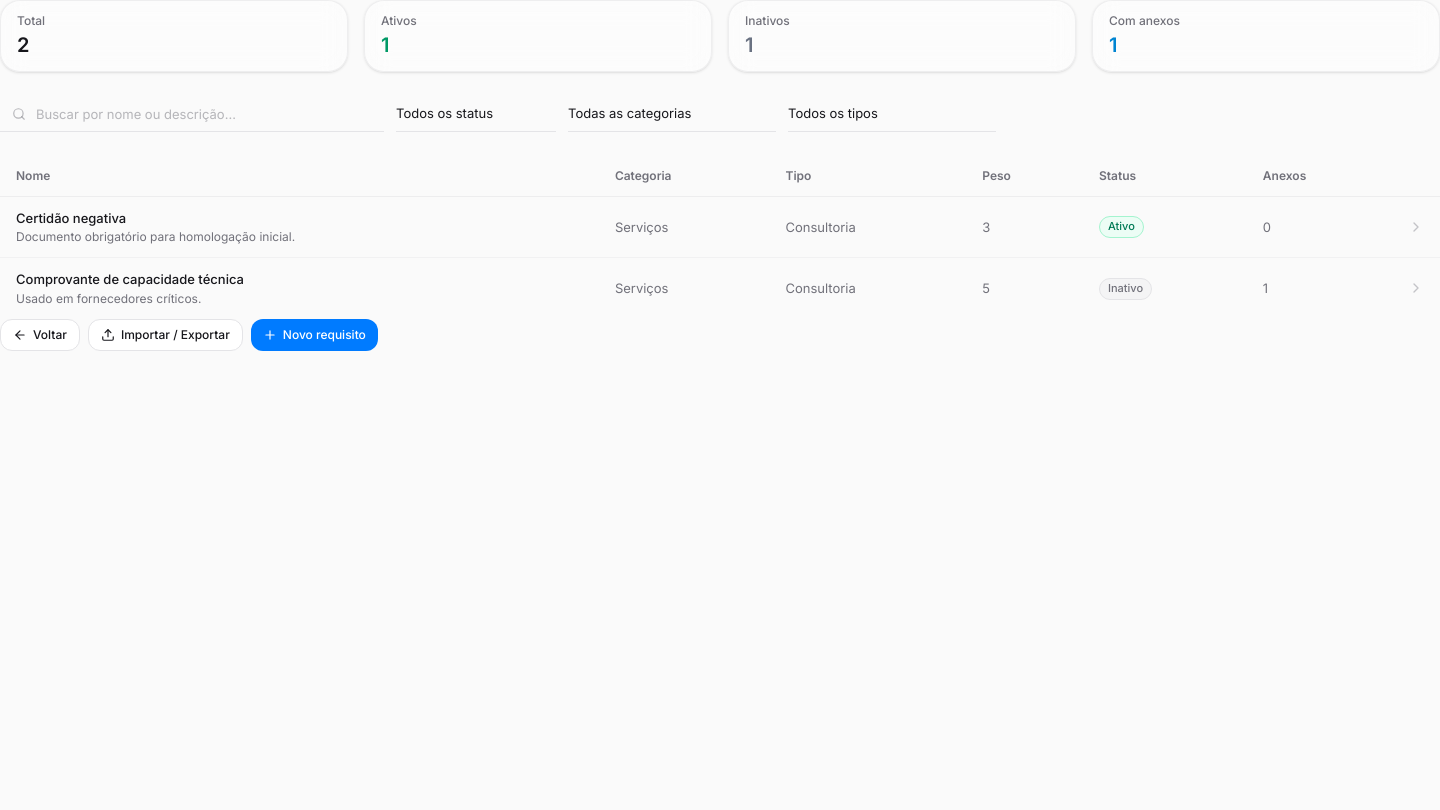
Test case: suppliers pages › renders requirements in table mode and opens the import/export modal from the header
Expected: the text "Certidão negativa" is shown, [16,210,126,226]
Click the button "Importar / Exportar": (165, 335) [88,319,243,351]
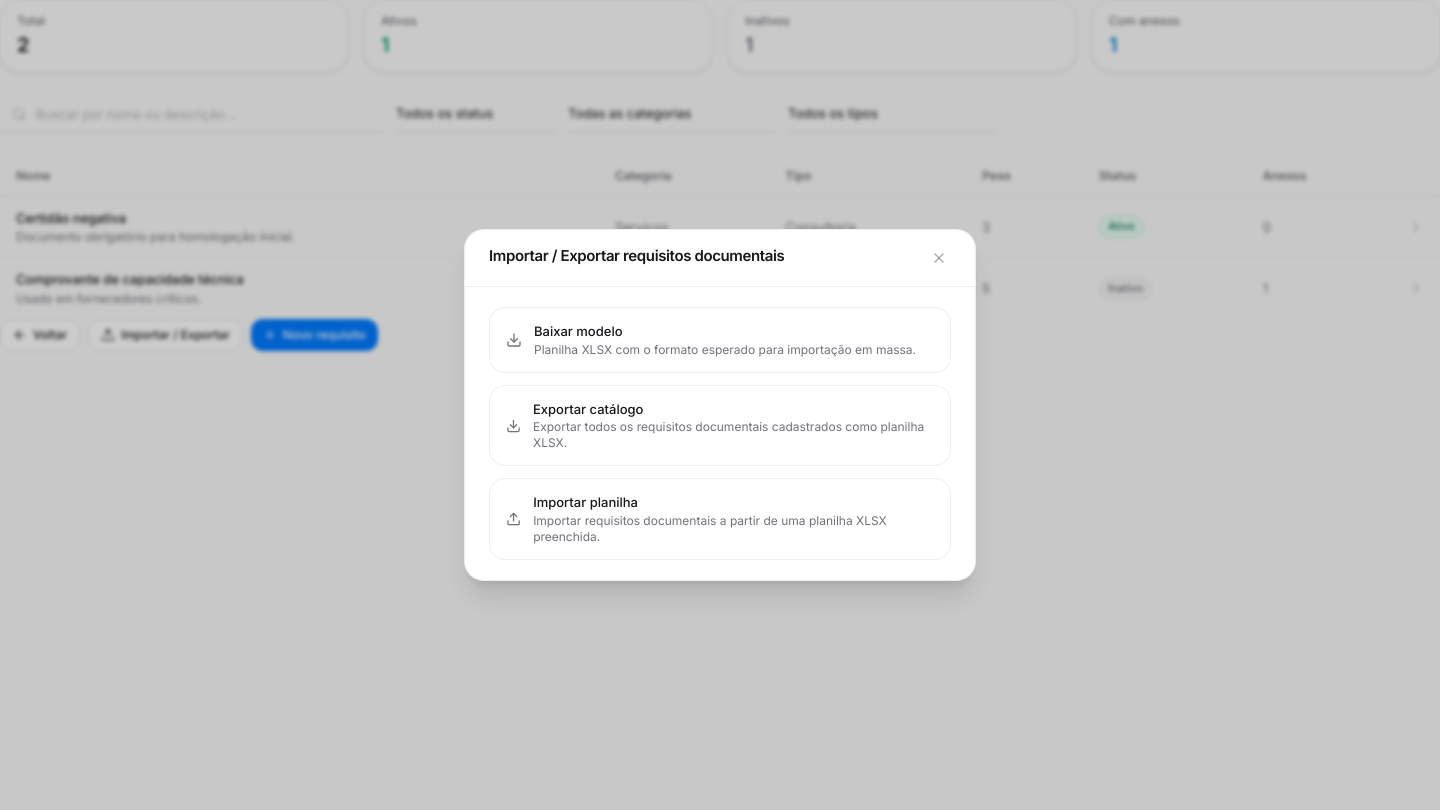
Expected: the heading "Importar / Exportar requisitos documentais" is shown, [489,248,784,263]
Expected: the text "Baixar modelo" is shown, [534,323,622,339]
Expected: the text "Exportar catálogo" is shown, [533,401,644,417]
